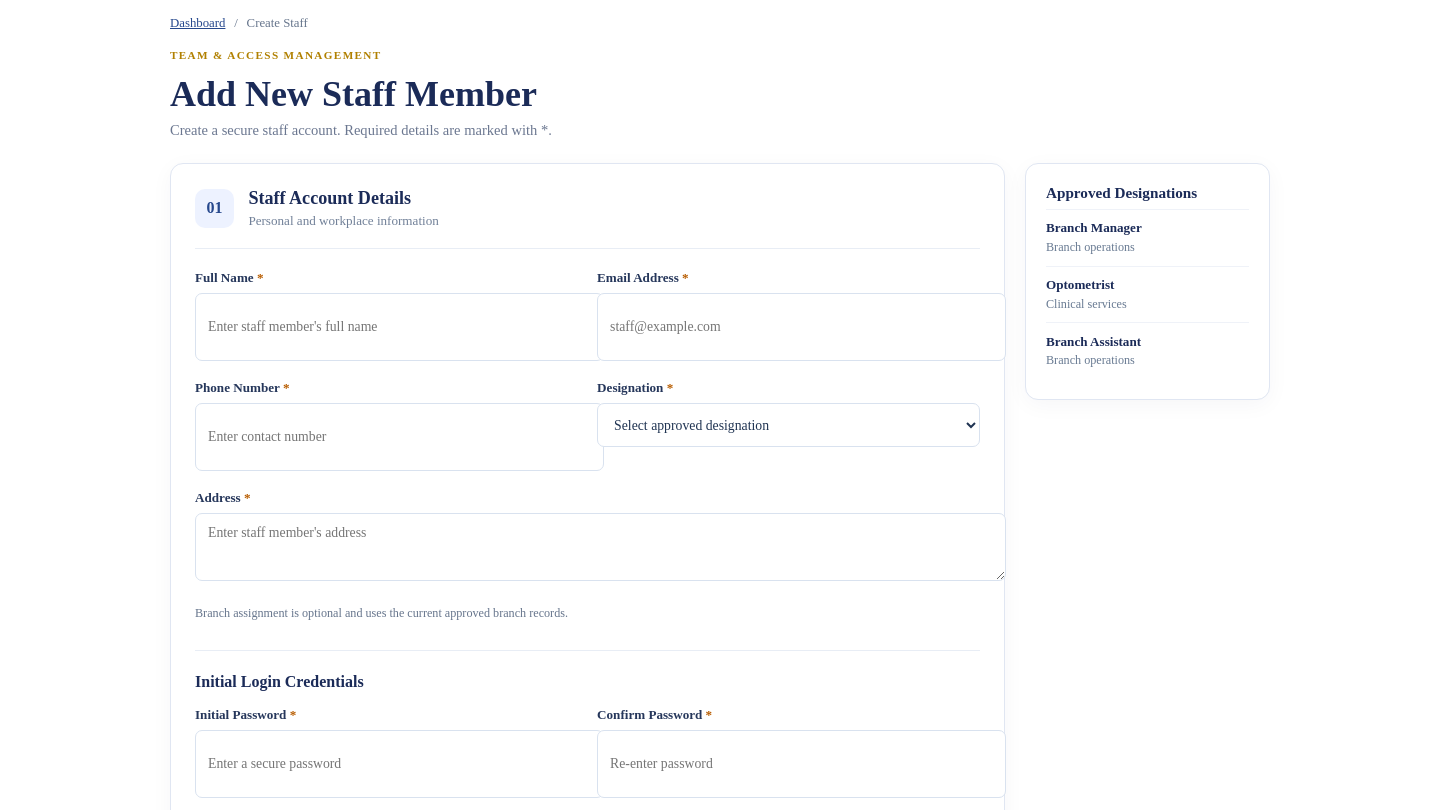
Scenario: AdminStaffCreatePage › displays duplicate identity conflicts without showing false success
Type "Nimal Perera" into the field labelled "Full Name *" at (399, 327), box [195,293,604,361]
Type "NIMAL@example.com" into the field labelled "Email Address *" at (802, 327), box [597,293,1006,361]
Type "0771234567" into the field labelled "Phone Number *" at (399, 437), box [195,403,604,471]
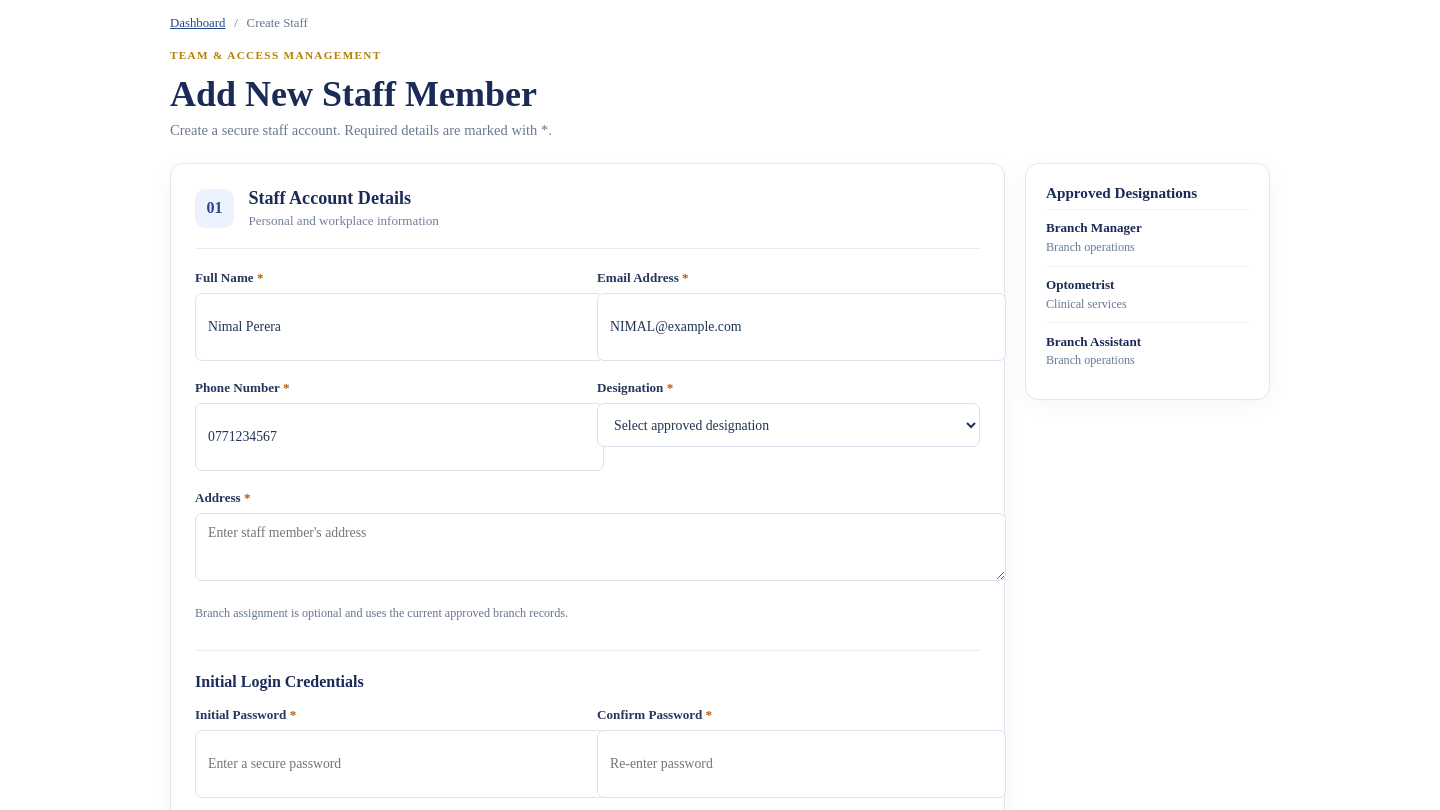
Type "15 Main Street" into the text box labelled "Address *" at (600, 547), box [195,513,1006,581]
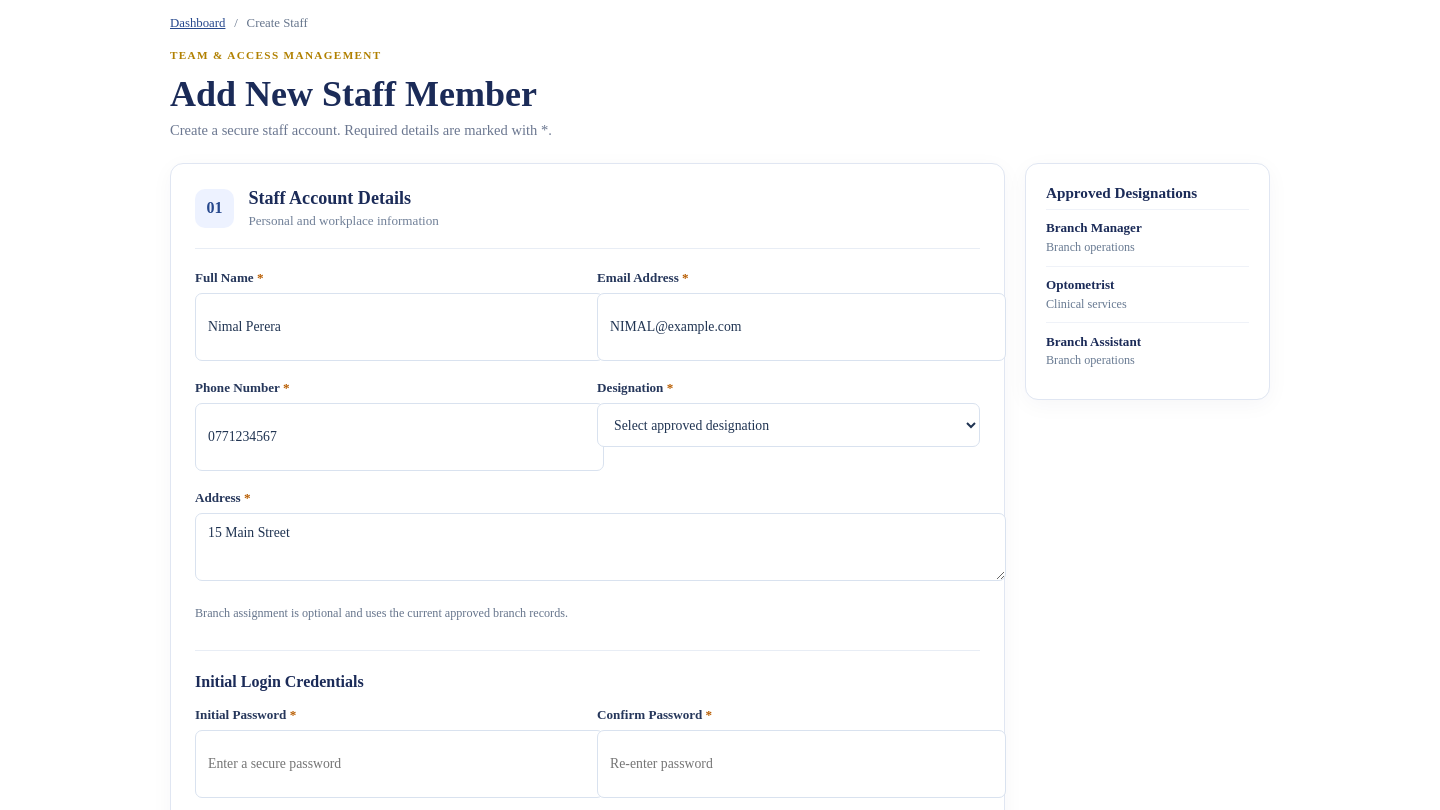
Select "Optometrist" in the dropdown labelled "Designation *" at (789, 425), box [597,403,980,447]
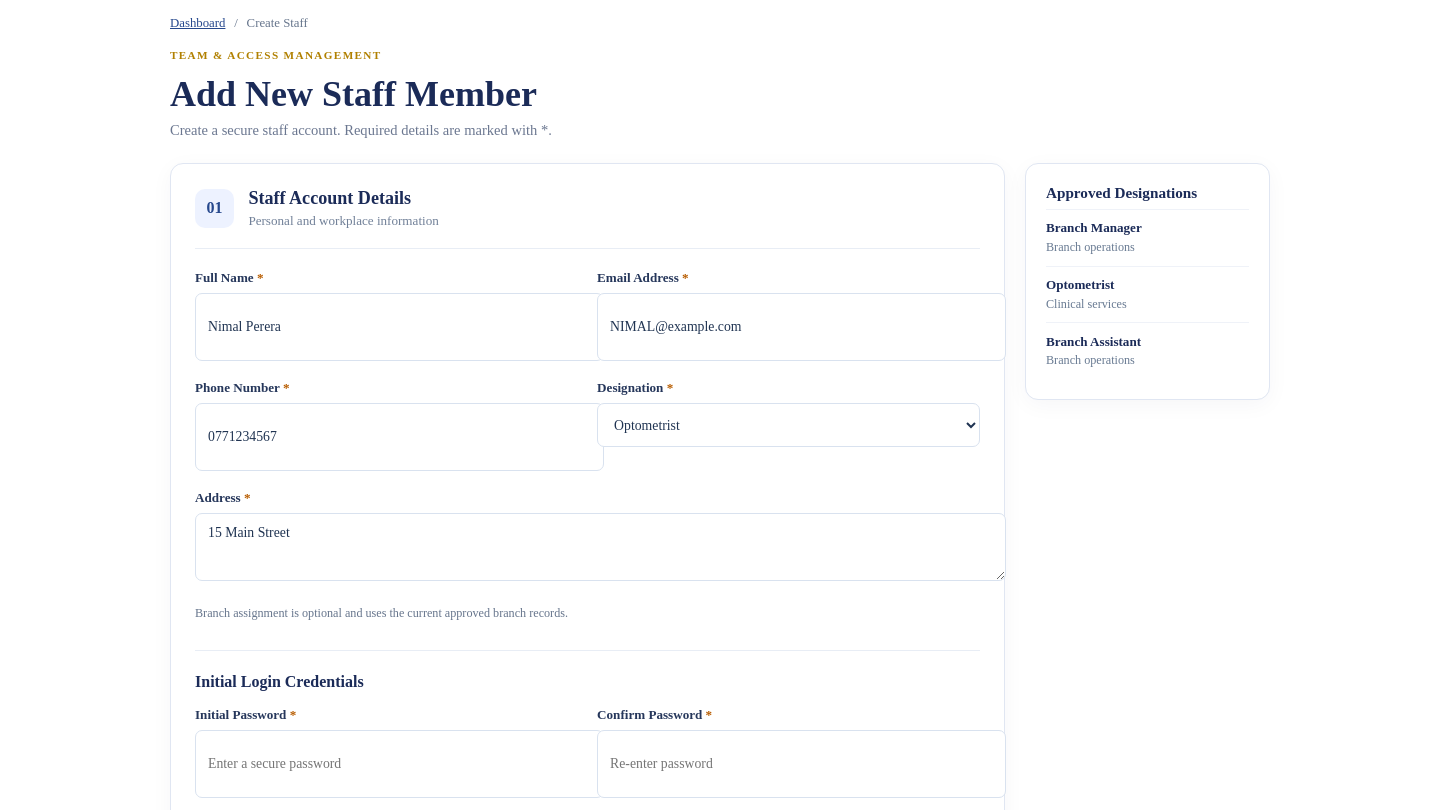
Type "Secure123" into the password field labelled "Initial Password *" at (399, 764), box [195,730,604,798]
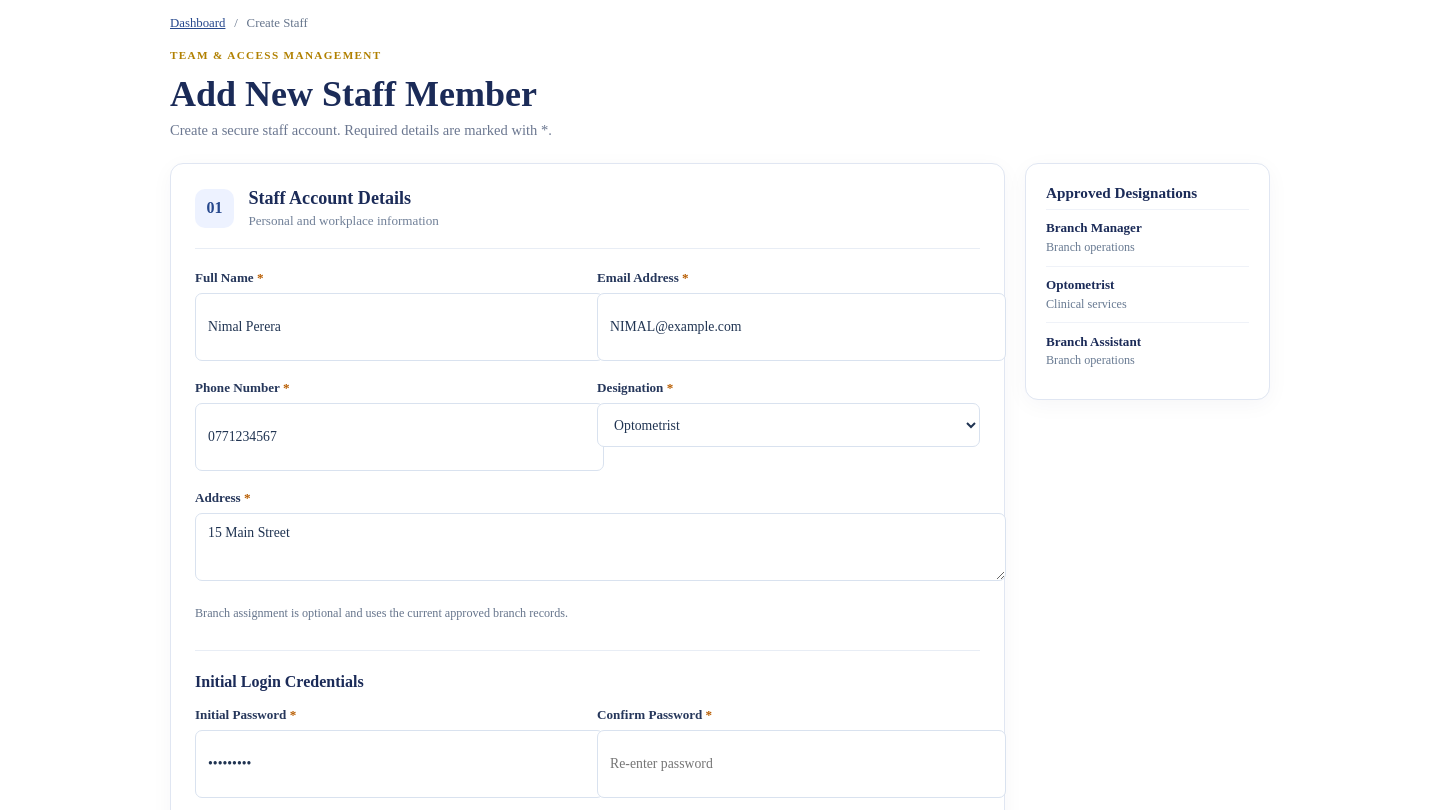
Type "Secure123" into the password field labelled "Confirm Password *" at (802, 764), box [597,730,1006,798]
(page scrolled)
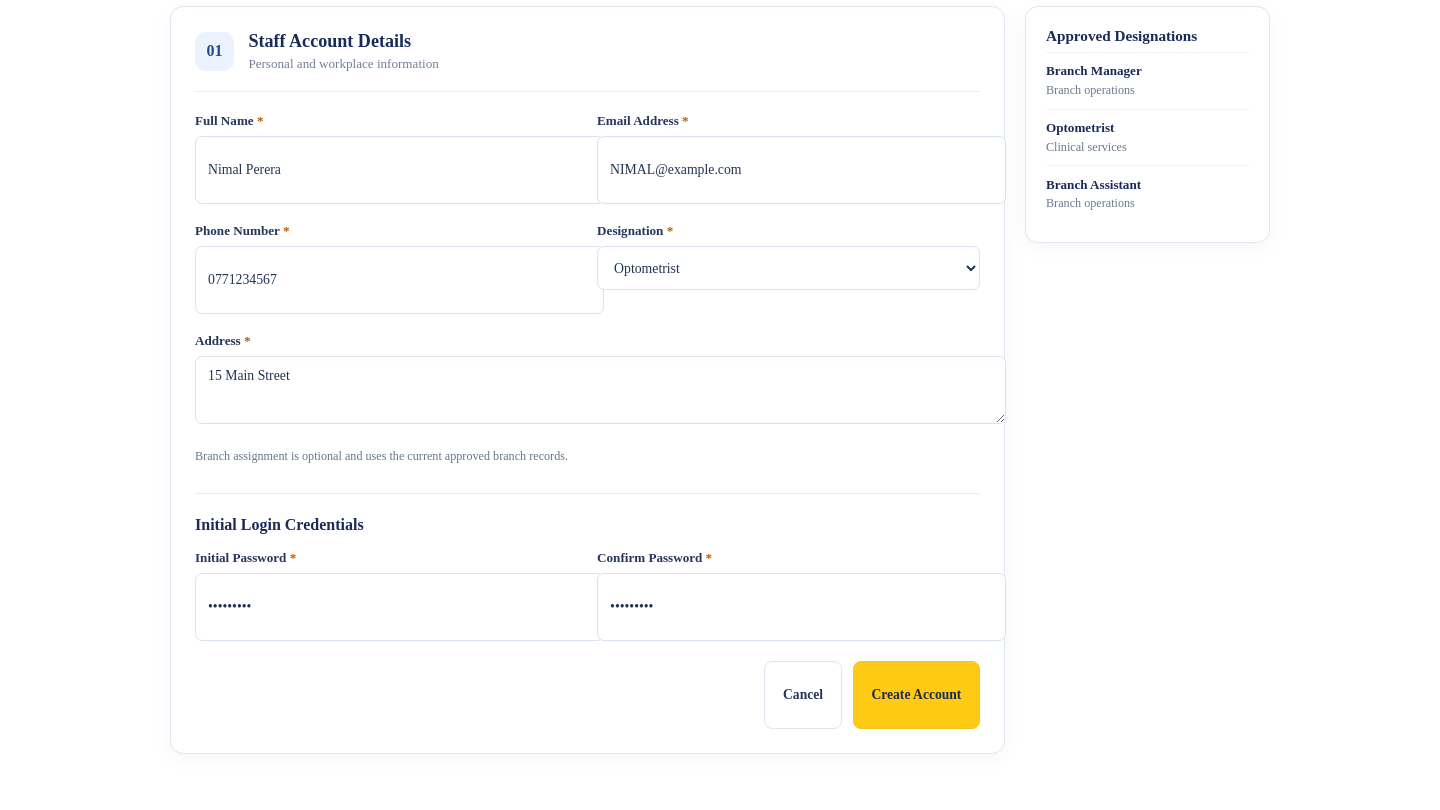
Click the button "Create Account" at (916, 695), box [853,661,980,729]
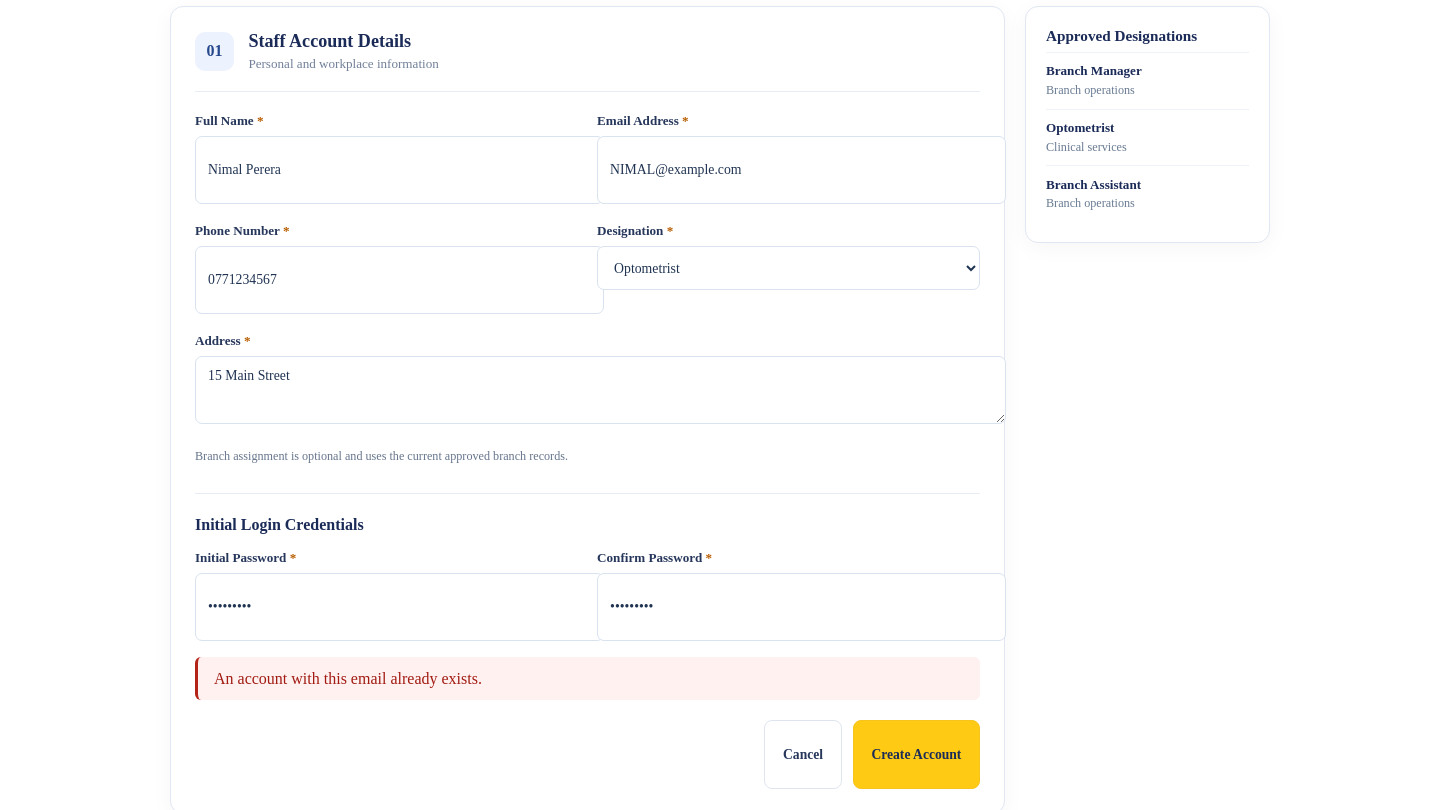
Check: the message shows "already exists", box [214,670,482,687]
